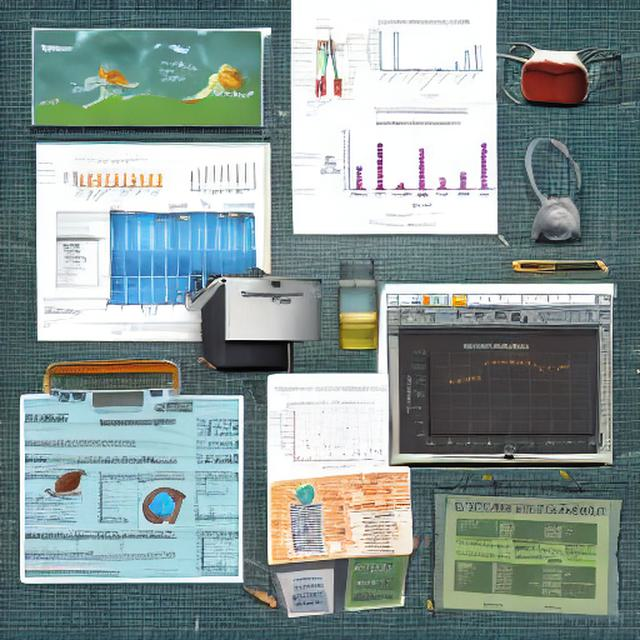Graph: (400, 336, 598, 454), (317, 119, 495, 210), (361, 16, 486, 100), (277, 400, 386, 470), (65, 155, 166, 208)
